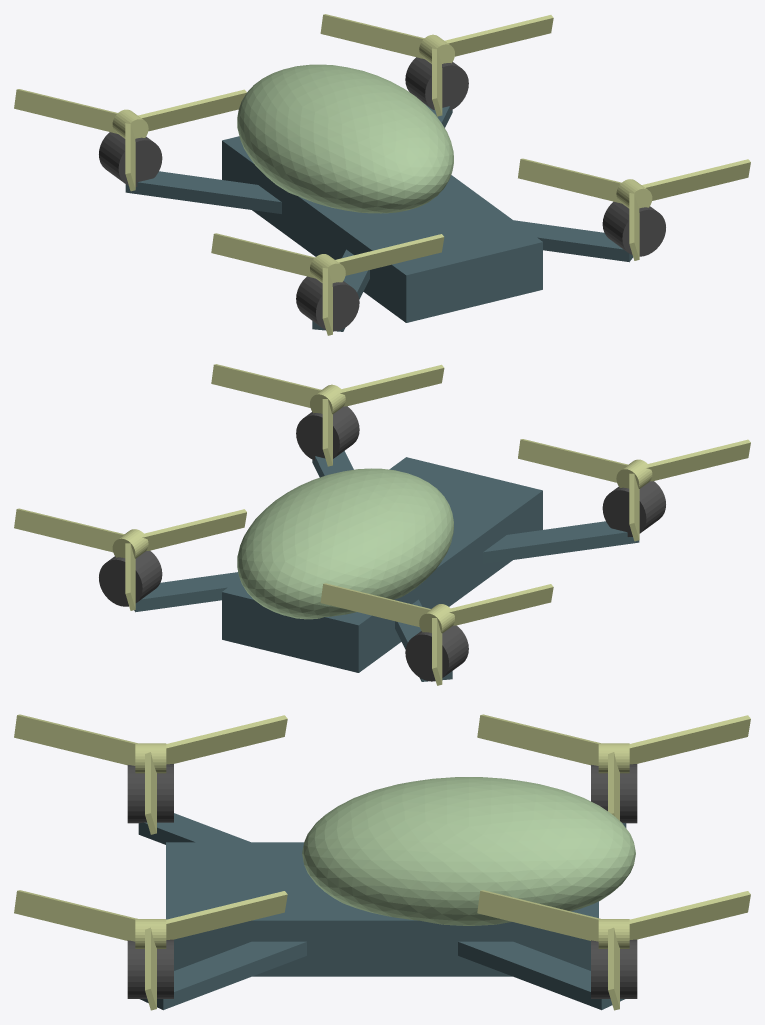
Rendered from Slam Nasty.glb.
3 views of the same model, one above another, from view 1: azimuth 30°, elevation 25°; view 2: azimuth 150°, elevation 25°; view 3: azimuth 270°, elevation 25° (orthographic). The views are drawn at different scales.
Visible parts, largest first — view 1: canopy, frame_body, prop_1, prop_0, prop_2, prop_3, arm_3, arm_0, motor_0, motor_2, motor_3, motor_1 (+1 smaller); view 2: canopy, frame_body, prop_3, prop_2, prop_0, prop_1, arm_2, arm_1, motor_1, motor_3, motor_2, motor_0 (+1 smaller); view 3: canopy, frame_body, prop_2, prop_0, prop_1, prop_3, arm_1, arm_0, motor_1, motor_2, motor_0, arm_2 (+1 smaller).
Boxes of the visible parts, x1,y1,x2,y2 form: canopy: (237, 64, 453, 213); frame_body: (222, 136, 542, 322); prop_1: (320, 14, 553, 116); prop_0: (518, 158, 750, 260); prop_2: (211, 233, 444, 335); prop_3: (14, 89, 246, 191); arm_3: (125, 171, 281, 213); arm_0: (514, 220, 632, 262); motor_0: (602, 201, 665, 256); motor_2: (296, 276, 359, 331); motor_3: (99, 132, 162, 186); motor_1: (405, 57, 468, 110); canopy: (237, 468, 453, 619); frame_body: (222, 457, 542, 672); prop_3: (320, 583, 553, 685); prop_2: (518, 439, 750, 541); prop_0: (211, 364, 444, 466); prop_1: (14, 508, 246, 610); arm_2: (483, 521, 639, 563); arm_1: (134, 572, 239, 612); motor_1: (99, 551, 162, 606); motor_3: (405, 625, 468, 681); motor_2: (602, 481, 665, 536); motor_0: (296, 406, 359, 460); canopy: (302, 777, 635, 925); frame_body: (166, 842, 598, 976); prop_2: (14, 714, 287, 834); prop_0: (14, 890, 287, 1010); prop_1: (477, 890, 750, 1010); prop_3: (477, 714, 750, 820); arm_1: (458, 941, 624, 1010); arm_0: (140, 941, 306, 1010); motor_1: (591, 939, 637, 998); motor_2: (127, 764, 173, 823); motor_0: (127, 939, 173, 998); arm_2: (138, 813, 250, 844).
Size of the model in its own units: 0.2111 by 0.0516 by 0.2383.
